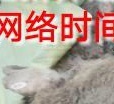text: (5, 74, 30, 97)
